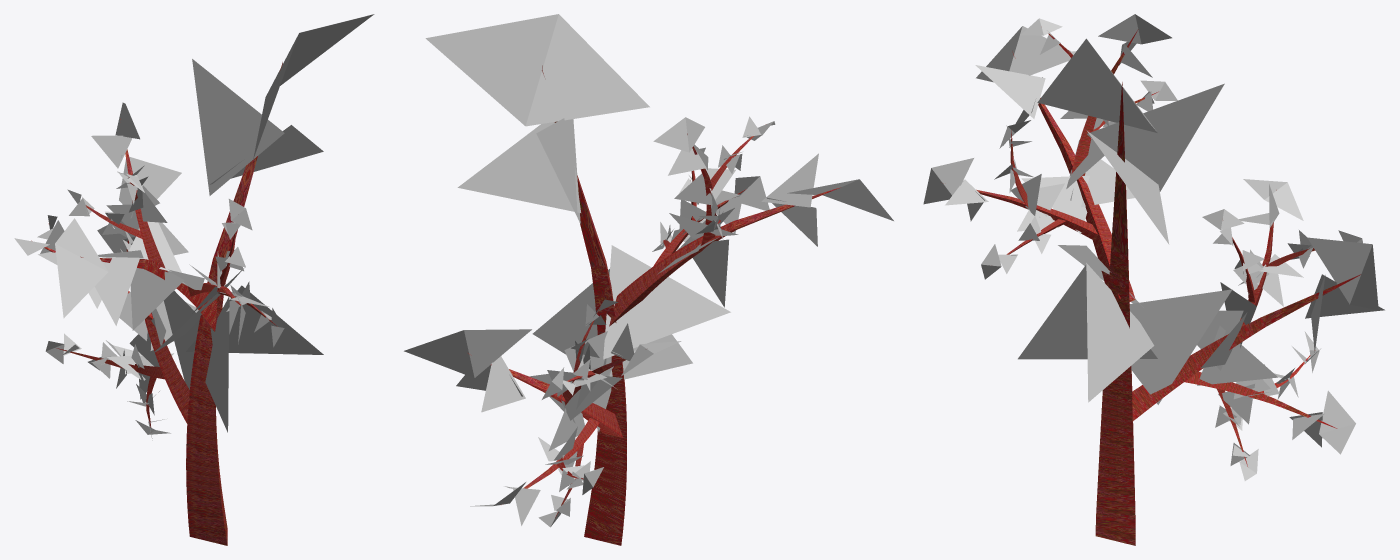
Rendered from fbxout.fbx.
The picture shows the model from 3 angles, left to right: view 1: azimuth 30°, elevation 25°; view 2: azimuth 150°, elevation 25°; view 3: azimuth 270°, elevation 25°; orthographic projection. The views are drawn at different scales.
Parts seen in each view (by area): view 1: child; view 2: child; view 3: child.
Boxes of the visible parts, x1,y1,x2,y2 form: child: [14, 14, 374, 545]; child: [404, 14, 893, 545]; child: [923, 14, 1384, 545].
Bounding box in the file's own units: 361 × 439 × 345.
